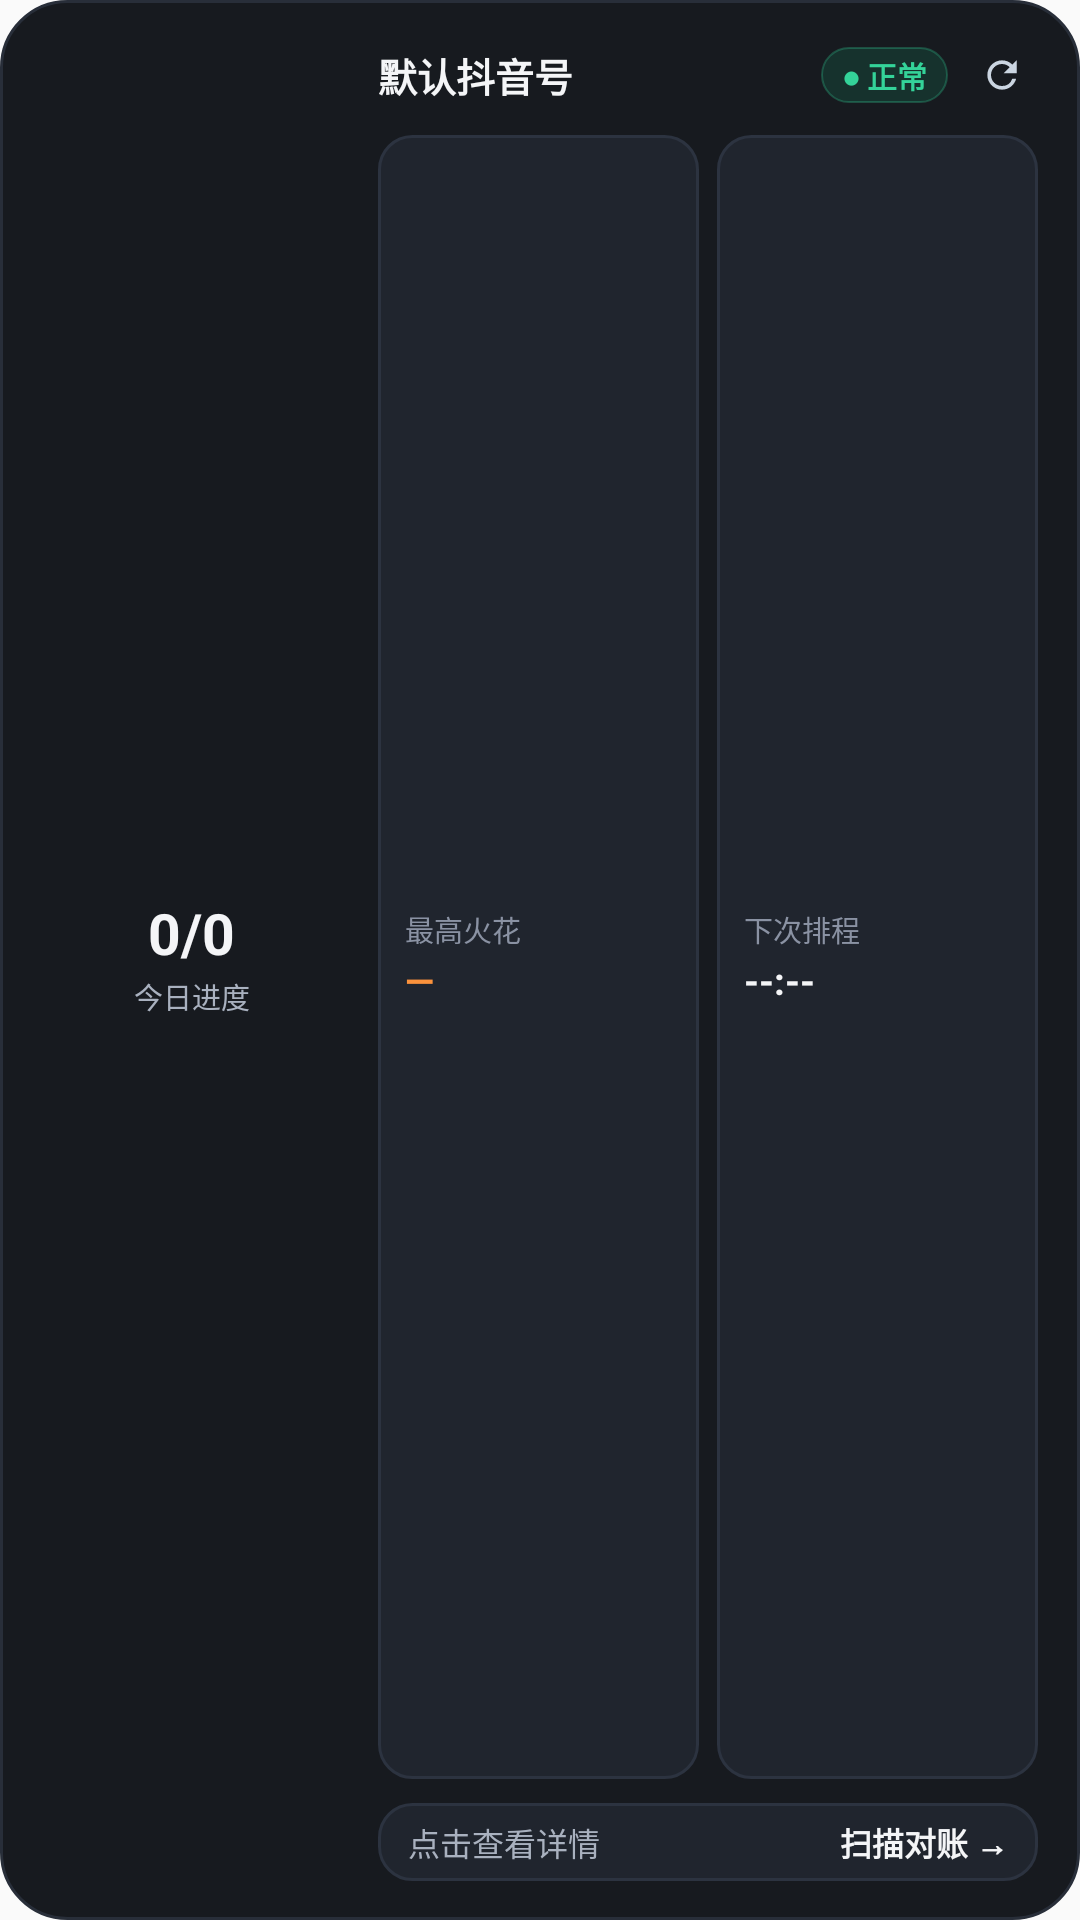

Icon bounding boxes for this 1080w x 1920h phone screenshot, format (x1, y1, x2, y2):
刷新今日续火状态: (987, 60, 1017, 90)
